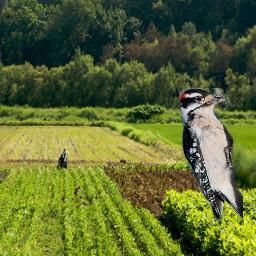Woodpecker: (179, 88, 243, 221)
